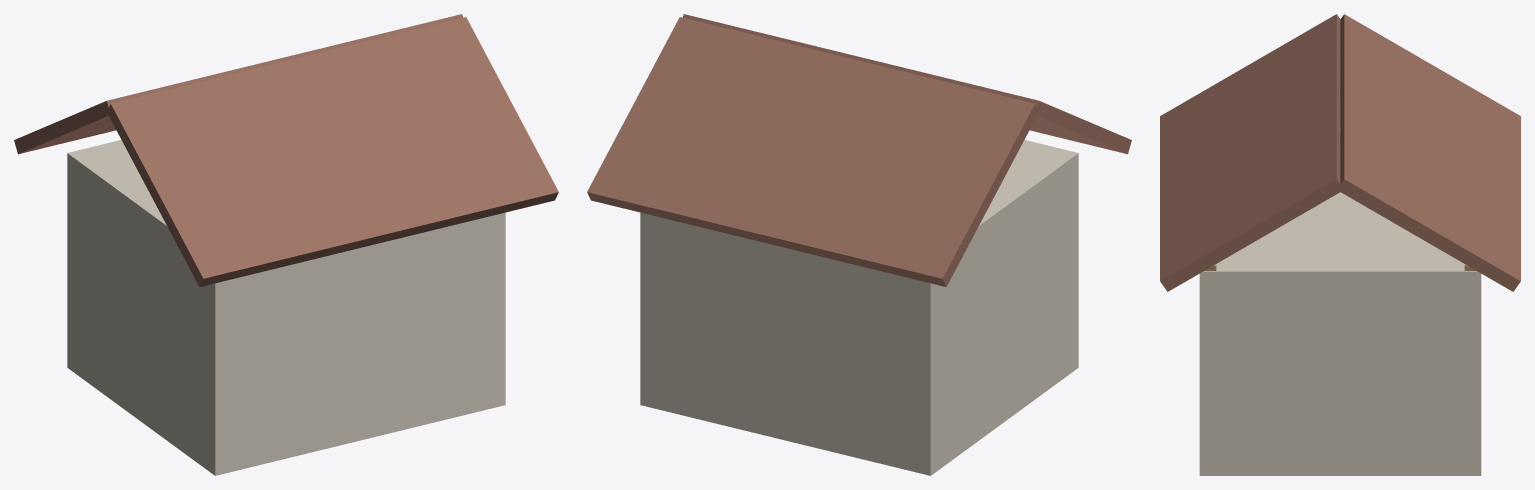
The model's file is house_c.glb.
3 views of the same model, side by side, from view 1: azimuth 30°, elevation 25°; view 2: azimuth 150°, elevation 25°; view 3: azimuth 270°, elevation 25° (orthographic). The views are drawn at different scales.
Parts seen in each view (by area): view 1: house_c; view 2: house_c; view 3: house_c.
Boxes of the visible parts, x1,y1,x2,y2 form: house_c: [14, 14, 558, 475]; house_c: [587, 14, 1131, 475]; house_c: [1160, 14, 1520, 475].
Bounding box in the file's own units: 4.16 × 3.66 × 3.84.
